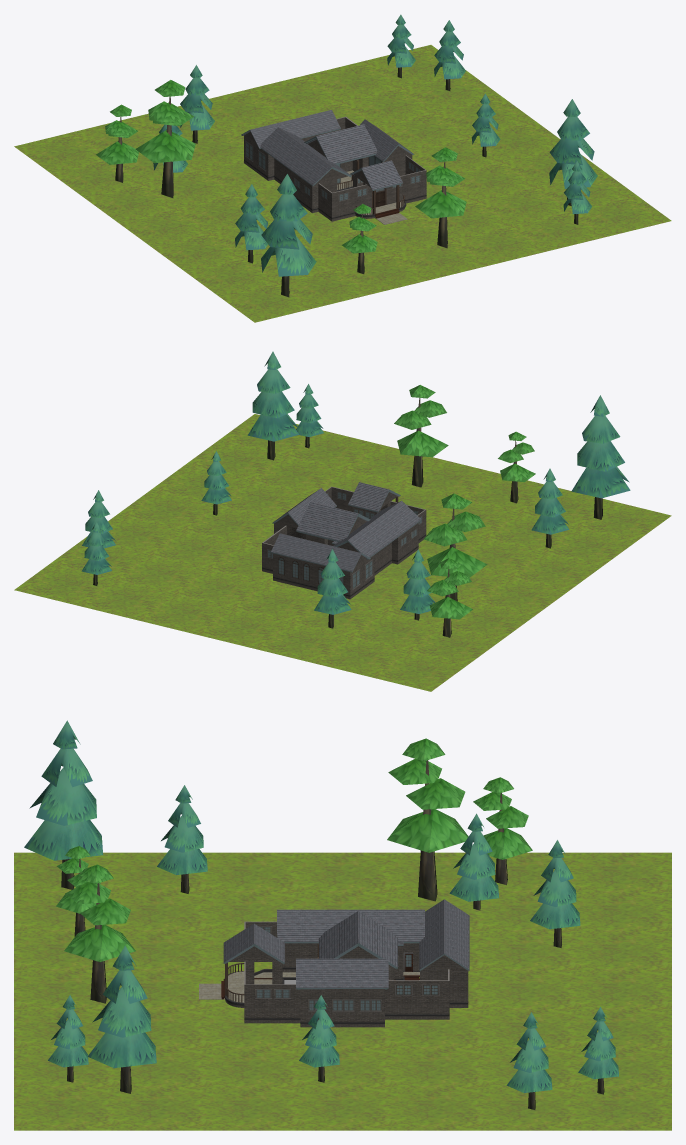
The model's file is zhuzhai_siheyuan01_lod.FBX.
3 views of the same model, one above another, from view 1: azimuth 30°, elevation 25°; view 2: azimuth 150°, elevation 25°; view 3: azimuth 270°, elevation 25° (orthographic). The views are drawn at different scales.
Visible parts, largest first — view 1: caodi, shu, zhuzhai_siheyuan01_lod; view 2: caodi, shu, zhuzhai_siheyuan01_lod; view 3: caodi, shu, zhuzhai_siheyuan01_lod.
Boxes of the visible parts, x1=… form: caodi: x1=14, y1=45, x2=671, y2=322; shu: x1=96, y1=14, x2=597, y2=297; zhuzhai_siheyuan01_lod: x1=241, y1=109, x2=426, y2=224; caodi: x1=14, y1=414, x2=671, y2=691; shu: x1=81, y1=351, x2=630, y2=637; zhuzhai_siheyuan01_lod: x1=262, y1=482, x2=426, y2=599; caodi: x1=14, y1=852, x2=671, y2=1130; shu: x1=24, y1=720, x2=618, y2=1109; zhuzhai_siheyuan01_lod: x1=199, y1=899, x2=469, y2=1027.
Bounding box in the file's own units: 6400 × 1902 × 6400.
